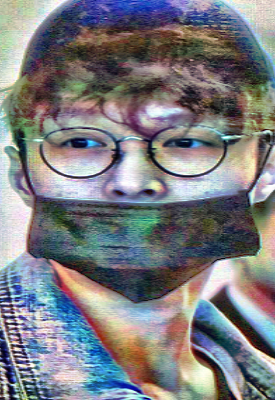mask_weared_incorrect: (24, 107, 263, 304)
